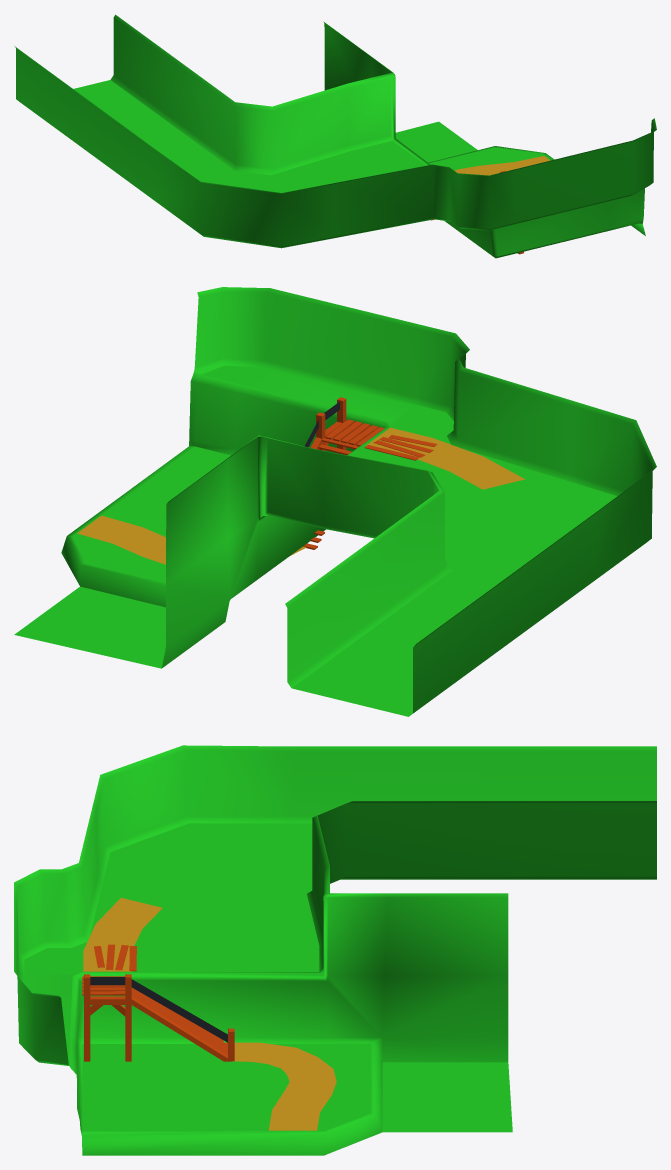
File: world.obj
3 renders of one model, top to bottom at view 1: azimuth 30°, elevation 25°; view 2: azimuth 150°, elevation 25°; view 3: azimuth 270°, elevation 25°, orthographic. The views are drawn at different scales.
Visible parts, largest first — view 1: Ground, Path; view 2: Ground, Path, ExitStairs; view 3: Ground, Path, ExitStairs, ExitStairsRailing.
Part boxes in pixels (x1,y1,x2,y2): Ground: [14, 14, 656, 258]; Path: [433, 156, 550, 219]; Ground: [14, 287, 656, 716]; Path: [77, 427, 524, 564]; ExitStairs: [303, 397, 437, 549]; Ground: [14, 745, 656, 1155]; Path: [83, 898, 336, 1130]; ExitStairs: [82, 944, 234, 1061]; ExitStairsRailing: [90, 977, 227, 1042].
Size of the model in its own units: 24.59 by 7.56 by 26.58.
